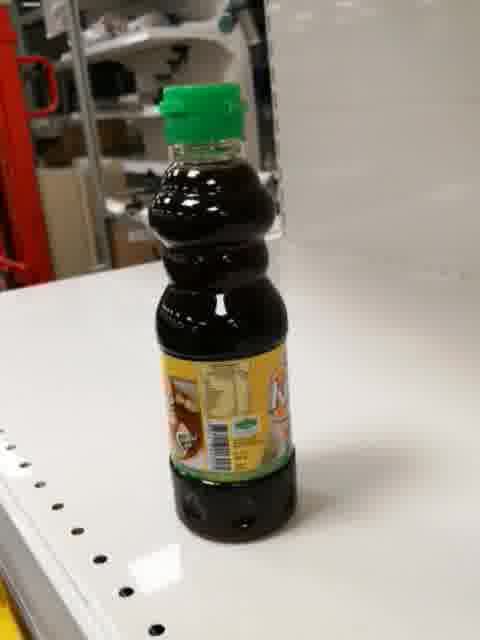cookingoil: (146, 81, 300, 546)
